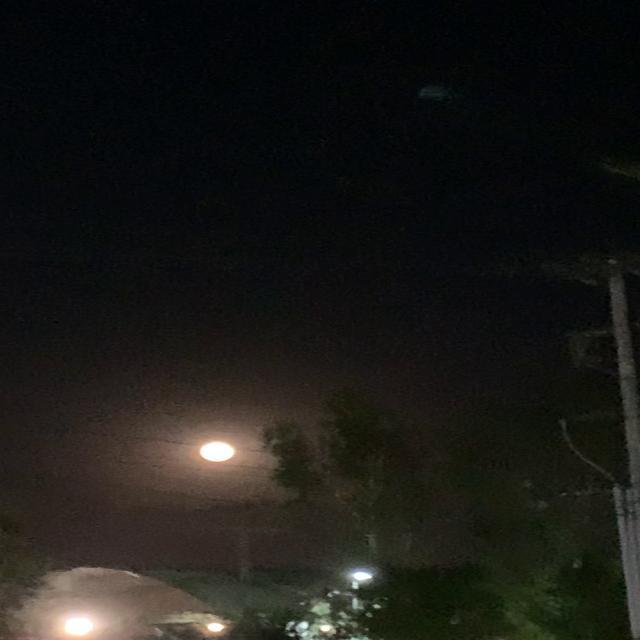moon: (207, 440, 249, 464)
